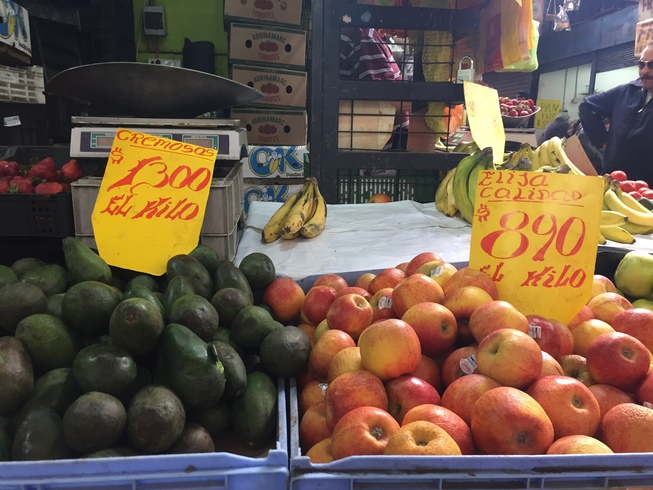precio: (472, 161, 606, 304), (94, 129, 214, 268)
